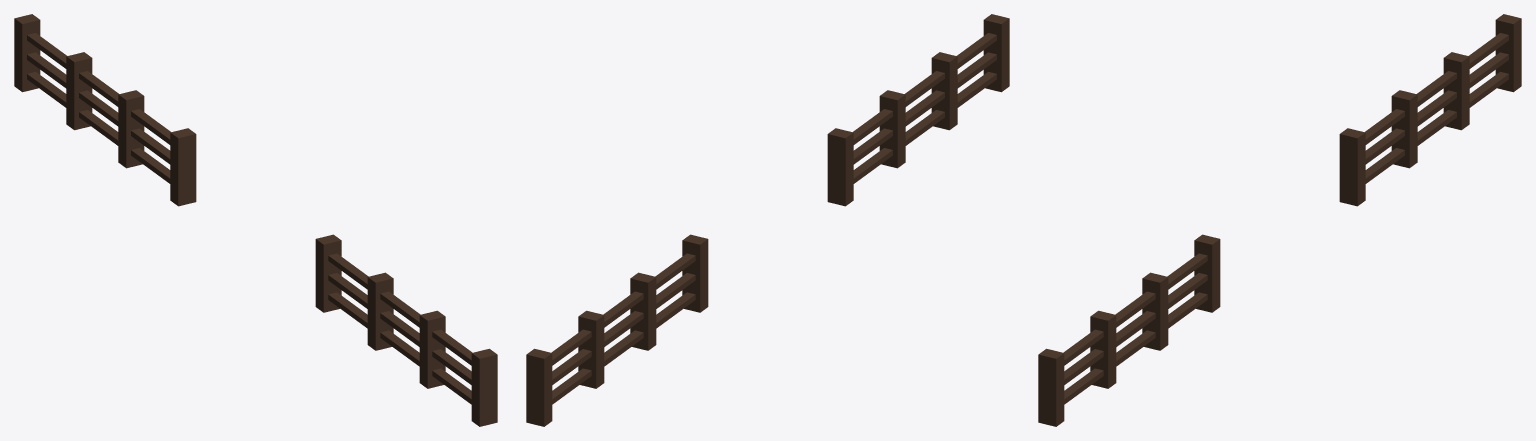
File: fencing.fbx
3 renders of one model, left to right at view 1: azimuth 30°, elevation 25°; view 2: azimuth 150°, elevation 25°; view 3: azimuth 330°, elevation 25°, orthographic.
Visible parts, largest first — view 1: Fencing; view 2: Fencing; view 3: Fencing.
Part boxes in pixels (box(x1,y1,x2,y2)): Fencing: box(14, 14, 497, 426); Fencing: box(526, 14, 1009, 426); Fencing: box(1038, 14, 1521, 426).
Bounding box in the file's own units: 106 × 386 × 4783.
